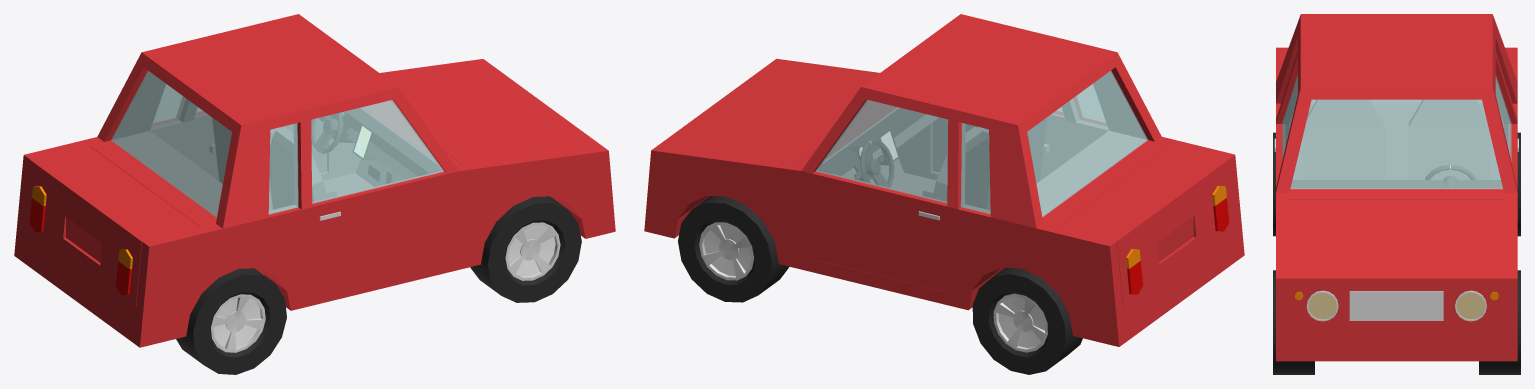
File: car.glb
3 renders of one model, left to right at view 1: azimuth 30°, elevation 25°; view 2: azimuth 150°, elevation 25°; view 3: azimuth 270°, elevation 25°, orthographic. The views are drawn at different scales.
Visible parts, largest first — view 1: car-normal-red, car-normal-red.005, car_trunk, car-normal-red.007, car-normal-red.004, car-normal-red.006, car-normal-red.003, steering_wheel; view 2: car-normal-red, car-normal-red.003, car_trunk, car-normal-red.007, car-normal-red.001, car-normal-red.002, car-normal-red.005, steering_wheel; view 3: car-normal-red, car-normal-red.007, car-normal-red.001, car-normal-red.003, car-normal-red.004, car-normal-red.005, car-normal-red.002, car-normal-red.006, steering_wheel.
Part boxes in pixels (x1,y1,x2,y2): car-normal-red: (14,14,615,347); car-normal-red.005: (311,100,447,292); car_trunk: (24,146,200,307); car-normal-red.007: (380,65,591,164); car-normal-red.004: (470,196,581,302); car-normal-red.006: (176,268,286,374); car-normal-red.003: (194,107,326,180); steering_wheel: (311,112,343,153); car-normal-red: (644,14,1244,346); car-normal-red.003: (812,100,948,291); car_trunk: (1059,145,1234,307); car-normal-red.007: (668,65,879,164); car-normal-red.001: (678,196,789,302); car-normal-red.002: (972,268,1082,374); car-normal-red.005: (933,107,1065,180); steering_wheel: (860,139,893,187); car-normal-red: (1276,14,1517,361); car-normal-red.007: (1289,199,1503,273); car-normal-red.001: (1479,270,1520,374); car-normal-red.003: (1495,76,1518,187); car-normal-red.004: (1273,270,1314,374); car-normal-red.005: (1274,74,1297,186); car-normal-red.002: (1517,132,1520,236); car-normal-red.006: (1273,132,1275,236); steering_wheel: (1425,165,1475,179).
Size of the model in its own units: 1.82 by 0.855 by 0.8525.
